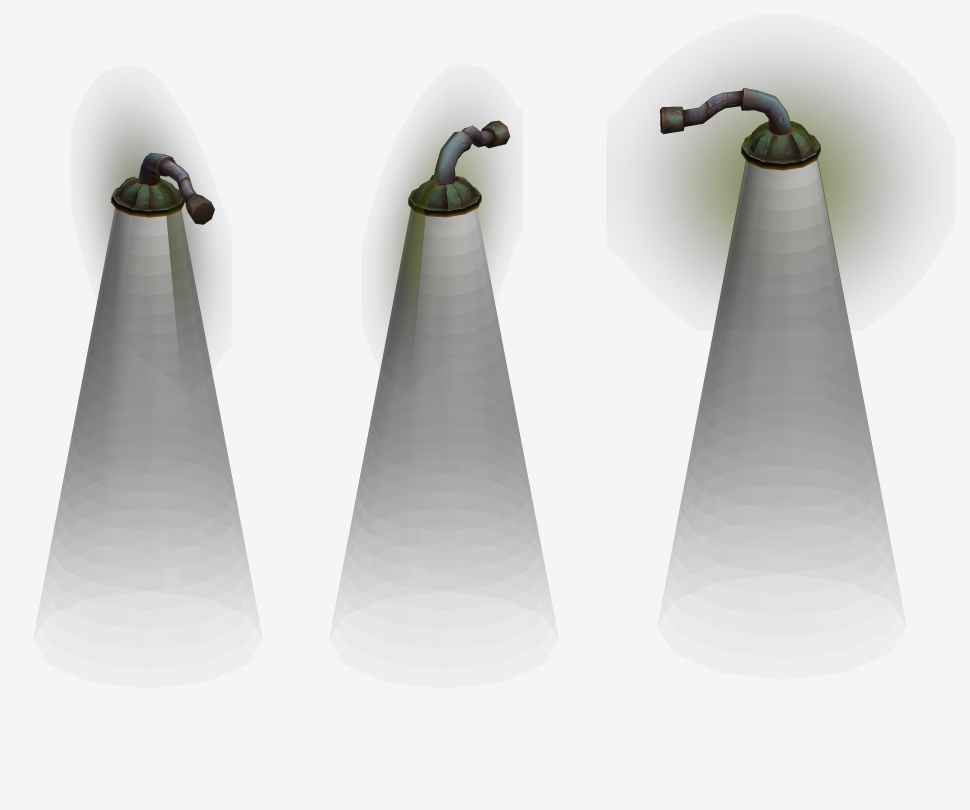
3 views of the same model, side by side, from view 1: azimuth 30°, elevation 25°; view 2: azimuth 150°, elevation 25°; view 3: azimuth 270°, elevation 25° (orthographic). The views are drawn at different scales.
Size of the model in its own units: 7.74 by 21.21 by 9.31.
Materials: 5 (5 with a texture image).
